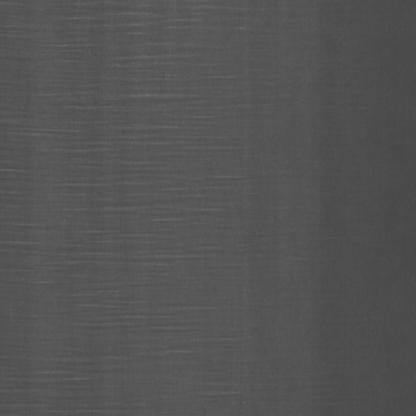waist_folding: (14, 31, 289, 379)
